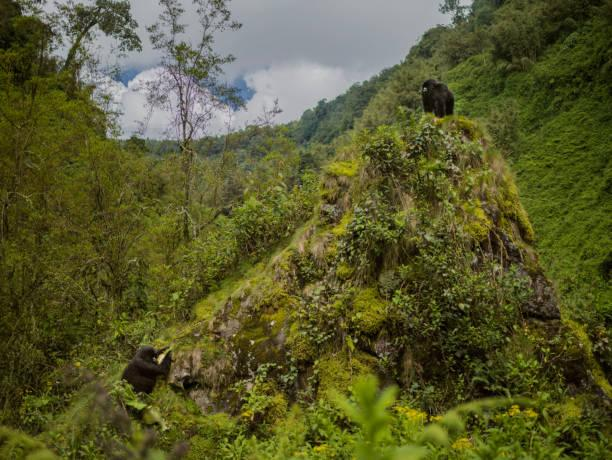goriile_montagne: (107, 337, 188, 400), (418, 66, 466, 123)
